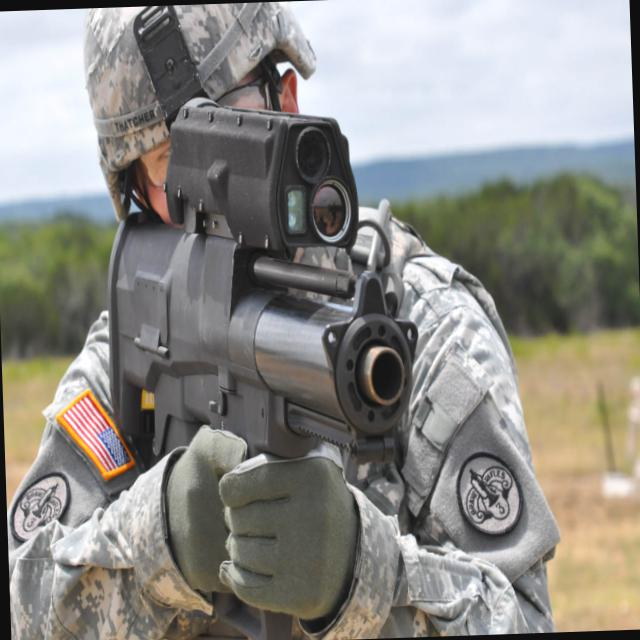long weapon: (72, 132, 400, 529)
